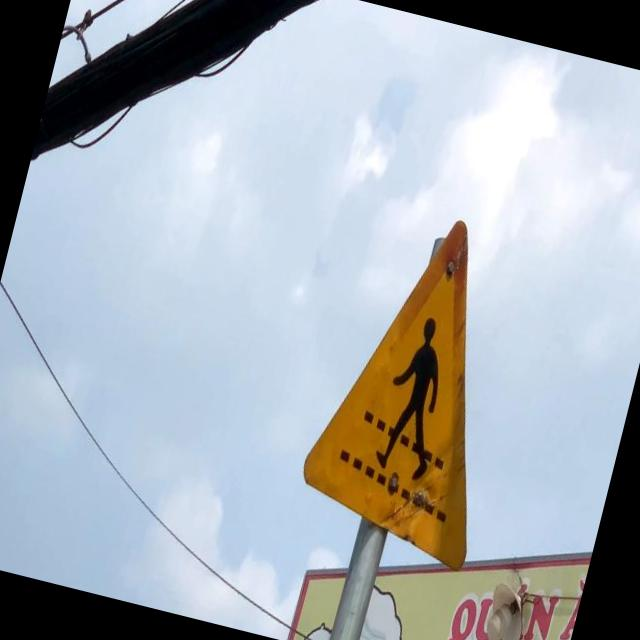W-224: (288, 195, 548, 574)
